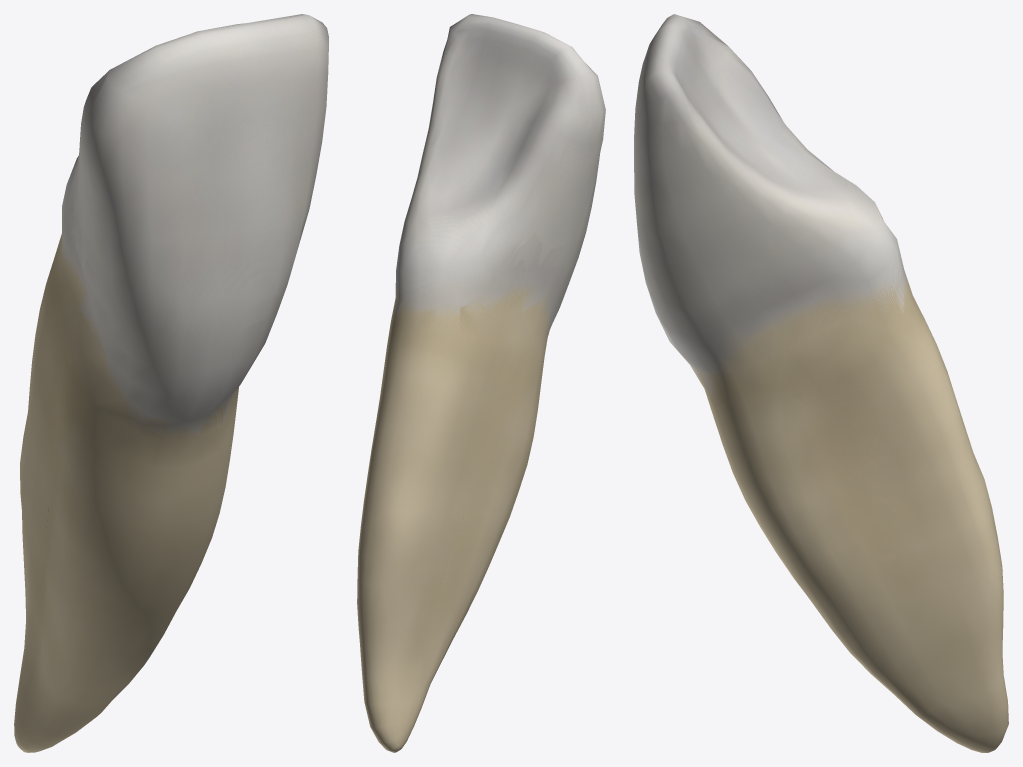
Rendered from tooth-41.glb.
3 renders of one model, left to right at view 1: azimuth 30°, elevation 25°; view 2: azimuth 150°, elevation 25°; view 3: azimuth 270°, elevation 25°, orthographic. The views are drawn at different scales.
Parts seen in each view (by area): view 1: ZBrushPolyMesh3D7_Mandible_ll1_0; view 2: ZBrushPolyMesh3D7_Mandible_ll1_0; view 3: ZBrushPolyMesh3D7_Mandible_ll1_0.
Part boxes in pixels (box(x1,y1,x2,y2)): ZBrushPolyMesh3D7_Mandible_ll1_0: box(14, 14, 328, 752); ZBrushPolyMesh3D7_Mandible_ll1_0: box(357, 14, 605, 752); ZBrushPolyMesh3D7_Mandible_ll1_0: box(634, 14, 1008, 752).
Bounding box in the file's own units: 0.199 × 0.7341 × 0.346.
Materials: 1 (1 with a texture image).
